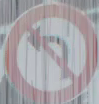Don't turn left: (9, 9, 87, 93)
